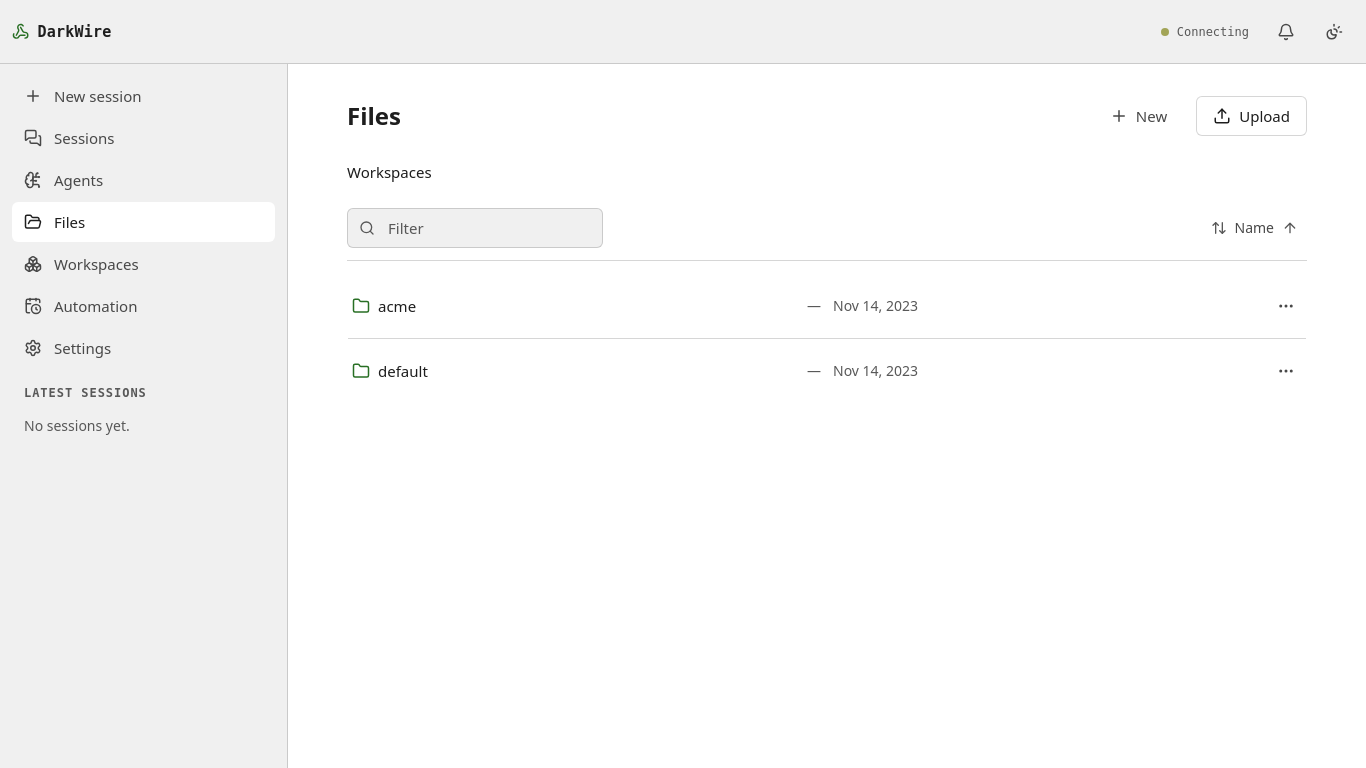
Test case: the workspaces directory › offers Delete on every other folder there
Step 1. Click the button named "Actions for acme" → x=1286, y=306, box [1266,286,1306,326]
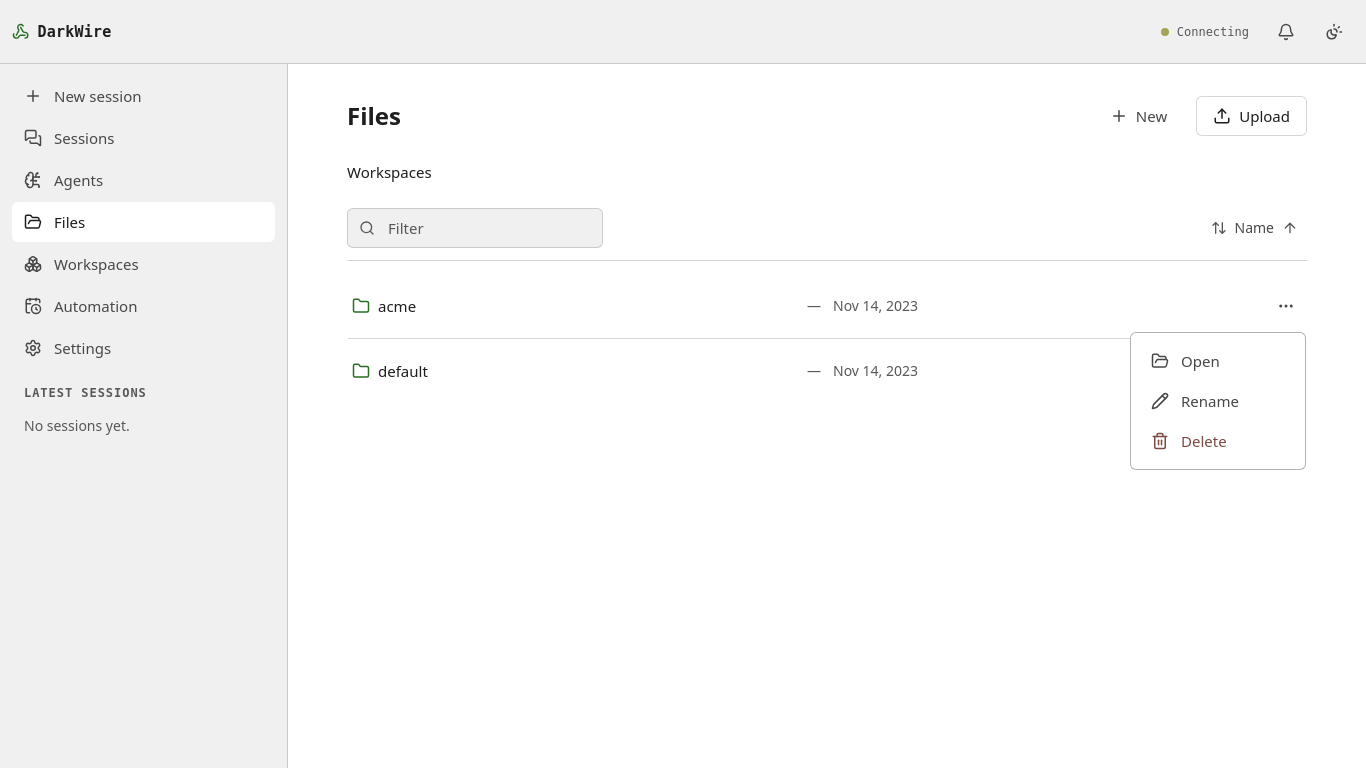
Now the menu item "Delete" is shown, box [1151,431,1227,451]
